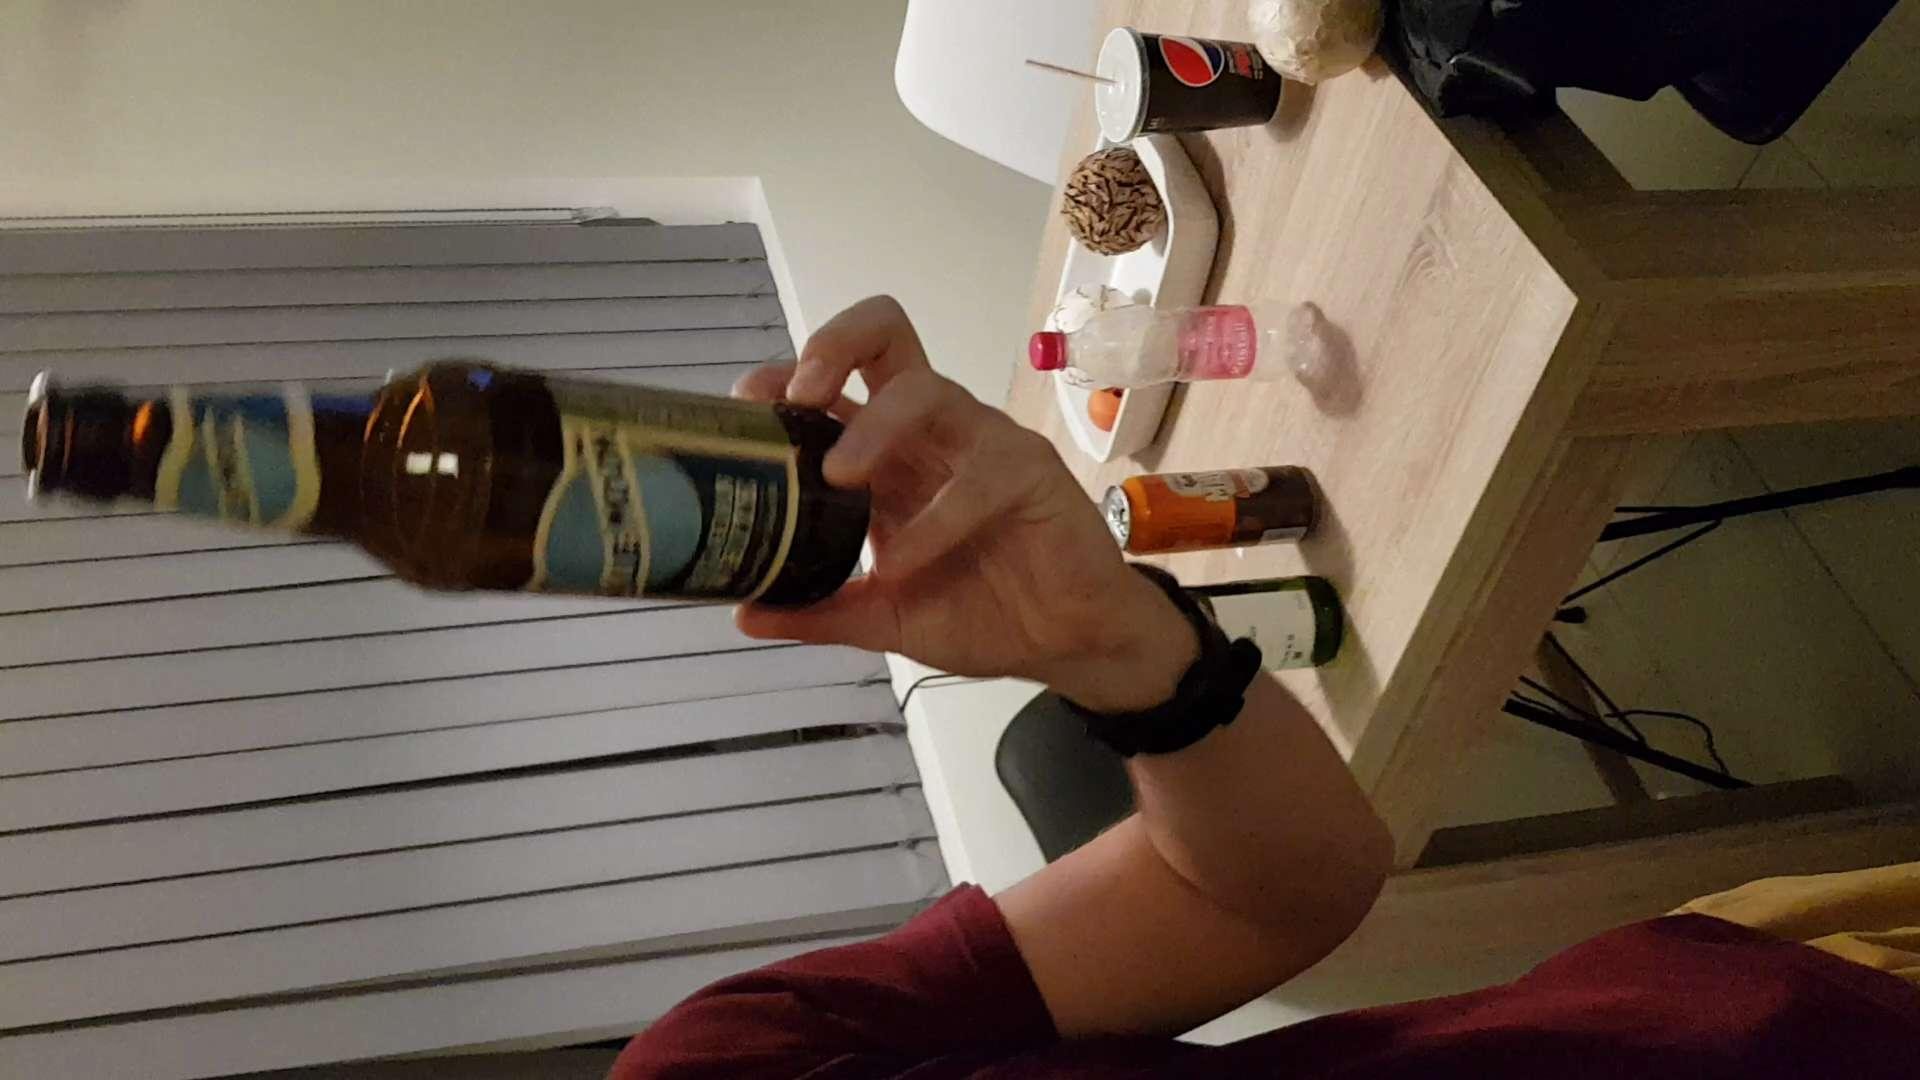bottle: (0, 339, 878, 600)
